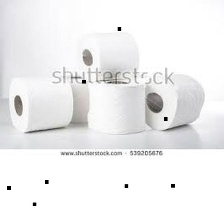tissue: (6, 75, 77, 134), (141, 70, 207, 133), (73, 26, 142, 86), (87, 75, 149, 137), (63, 73, 92, 126)
